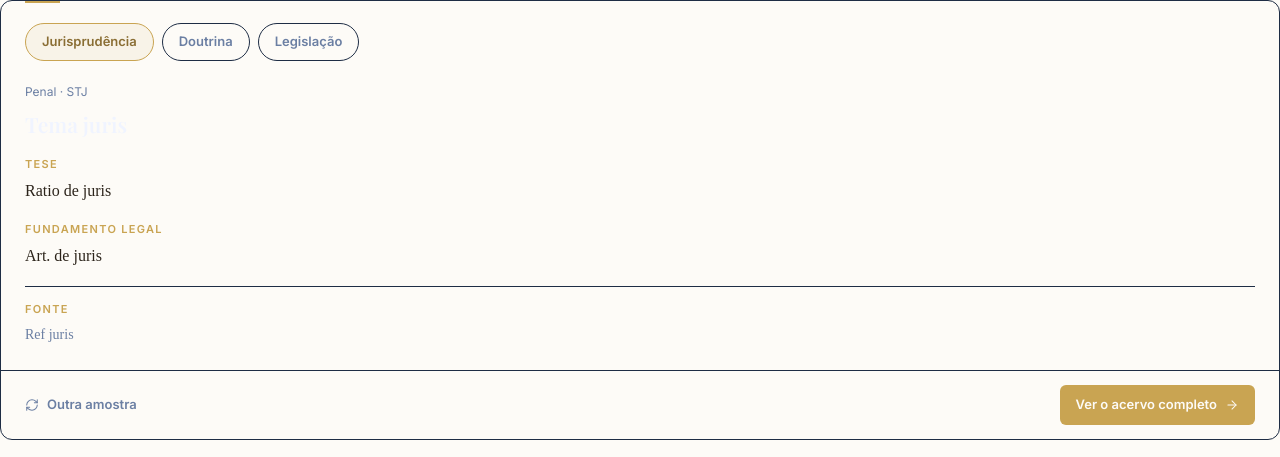
Scenario: AmostraAcervo › avisa quando não há amostra pública do tipo, sem inventar conteúdo
This screenshot has width=1280, height=457.
Click the tab "Legislação" at (308, 42), box 258,23 -> 359,60
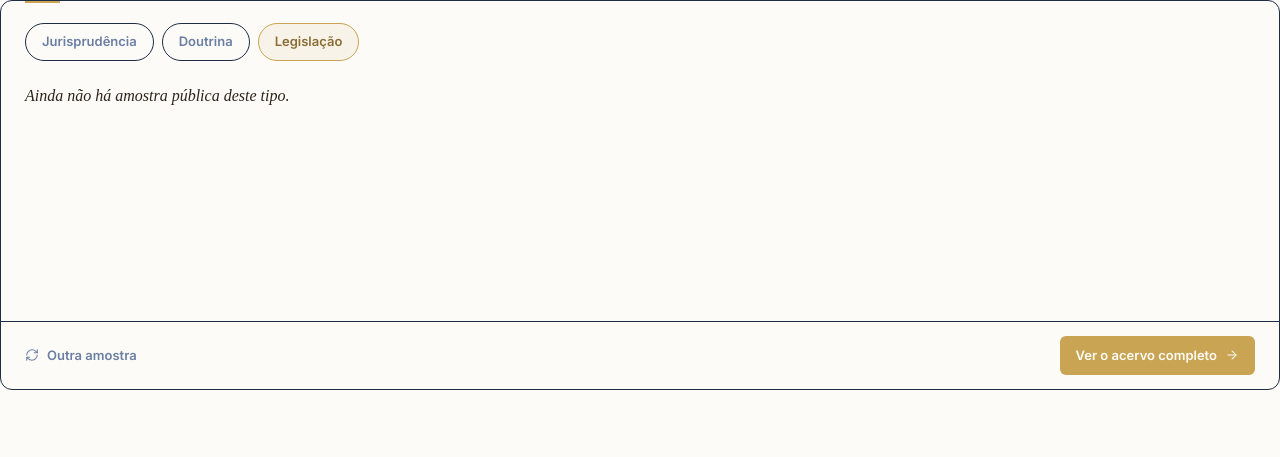
Expected: the text "Ainda não há amostra pública deste tipo." is shown, 25,86 -> 289,104
